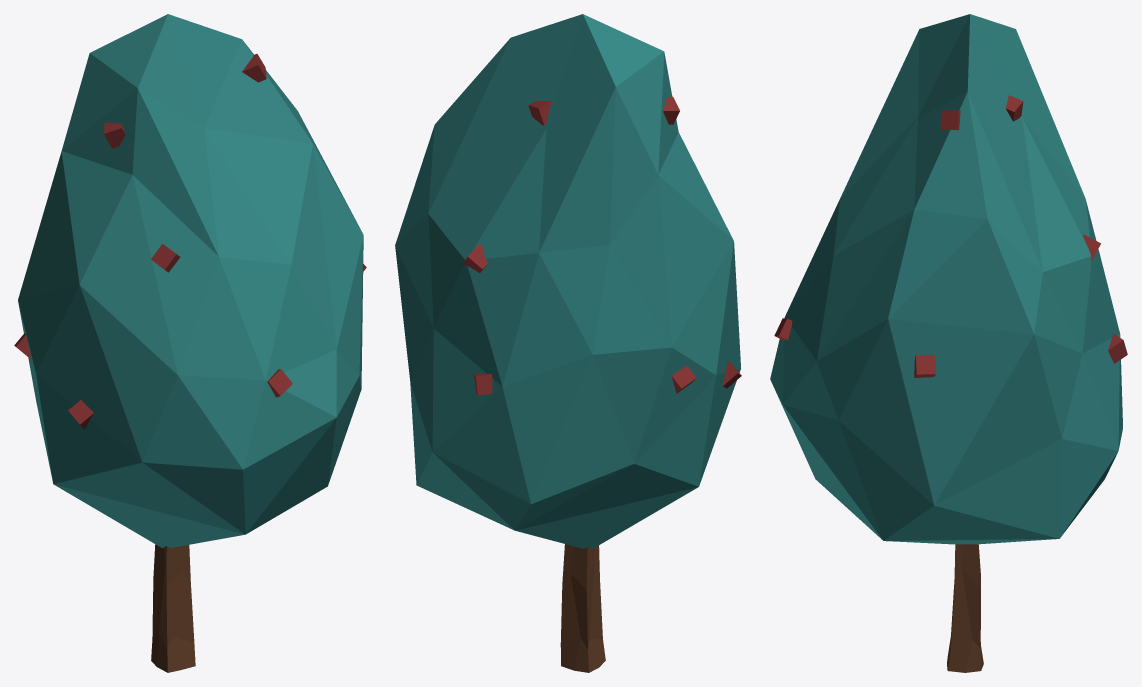
File: Tree_23_Blue.fbx
The picture shows the model from 3 angles, left to right: view 1: azimuth 30°, elevation 25°; view 2: azimuth 150°, elevation 25°; view 3: azimuth 270°, elevation 25°; orthographic projection.
Visible parts, largest first — view 1: Tree_23_Blue_Part_1, Tree_23_Blue_Part_2, Tree_23_Blue_Part_3; view 2: Tree_23_Blue_Part_1, Tree_23_Blue_Part_2, Tree_23_Blue_Part_3; view 3: Tree_23_Blue_Part_1, Tree_23_Blue_Part_2, Tree_23_Blue_Part_3.
Boxes of the visible parts, x1,y1,x2,y2 form: Tree_23_Blue_Part_1: (18, 14, 363, 547); Tree_23_Blue_Part_2: (151, 544, 195, 672); Tree_23_Blue_Part_3: (14, 54, 366, 428); Tree_23_Blue_Part_1: (395, 14, 740, 549); Tree_23_Blue_Part_2: (560, 544, 605, 672); Tree_23_Blue_Part_3: (463, 96, 741, 395); Tree_23_Blue_Part_1: (770, 14, 1122, 544); Tree_23_Blue_Part_2: (947, 544, 983, 672); Tree_23_Blue_Part_3: (774, 95, 1127, 377).
Bounding box in the file's own units: 398 × 799 × 399.
